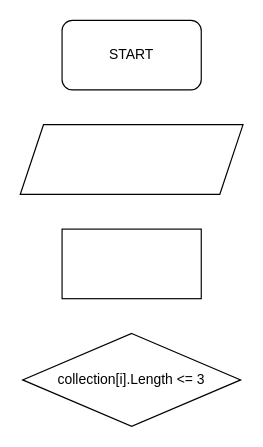
The diagram is 263 pixels wide and 447 high, and some of its shapes have lost their labels. Here are the shapes that lost their labels. From the top down, the box of each, then its label:
(19, 124, 243, 194): collection = ["hello", "2", "world", ":-)"]
(61, 228, 201, 299): i = 0
